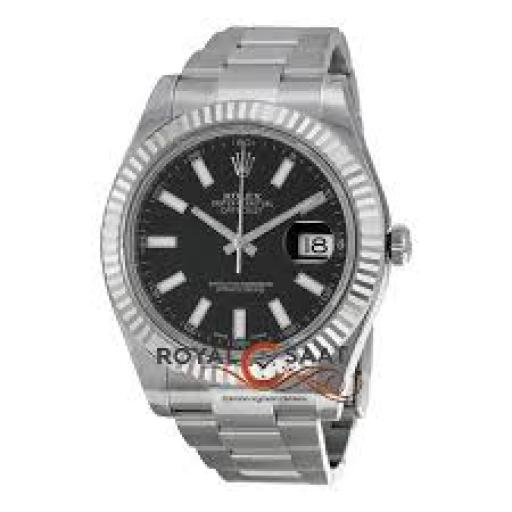KolSaati: (90, 16, 420, 488)
